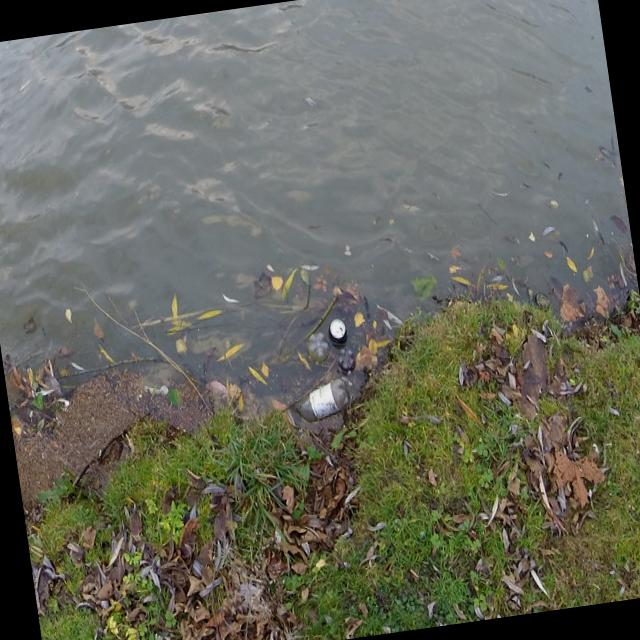Trash: (163, 278, 385, 394), (295, 389, 355, 418)
